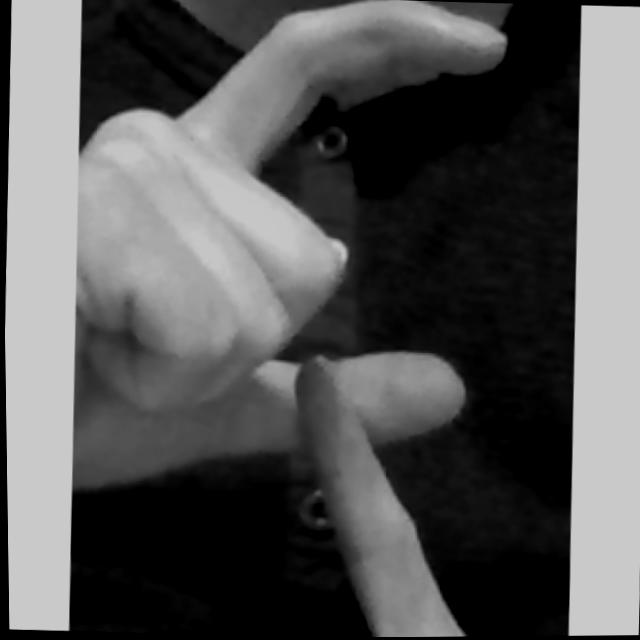C_: (58, 0, 538, 640)
